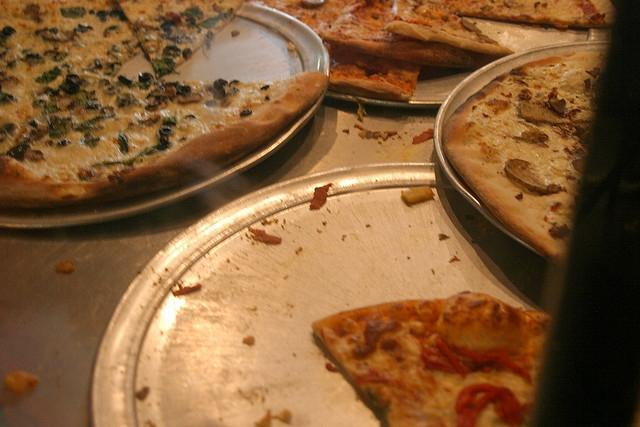mushroom: (504, 159, 562, 195), (519, 98, 577, 126), (521, 128, 549, 148)
